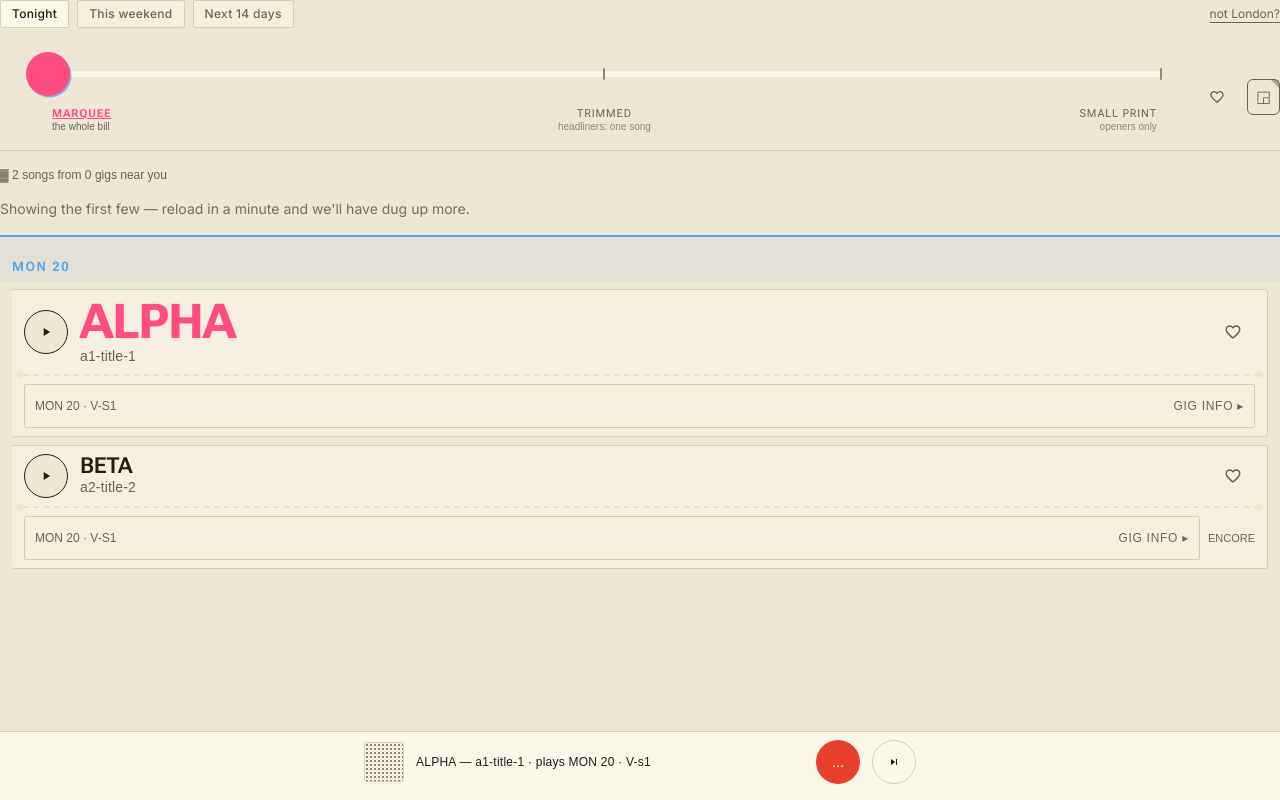
Test: Lineup Poster trigger + peel (Task 4.7) › holding ≥500ms opens the poster
Step 1. Press the mouse on the button named "make a poster" → [1263, 97], box [1247, 79, 1279, 115]
Wait 500 ms
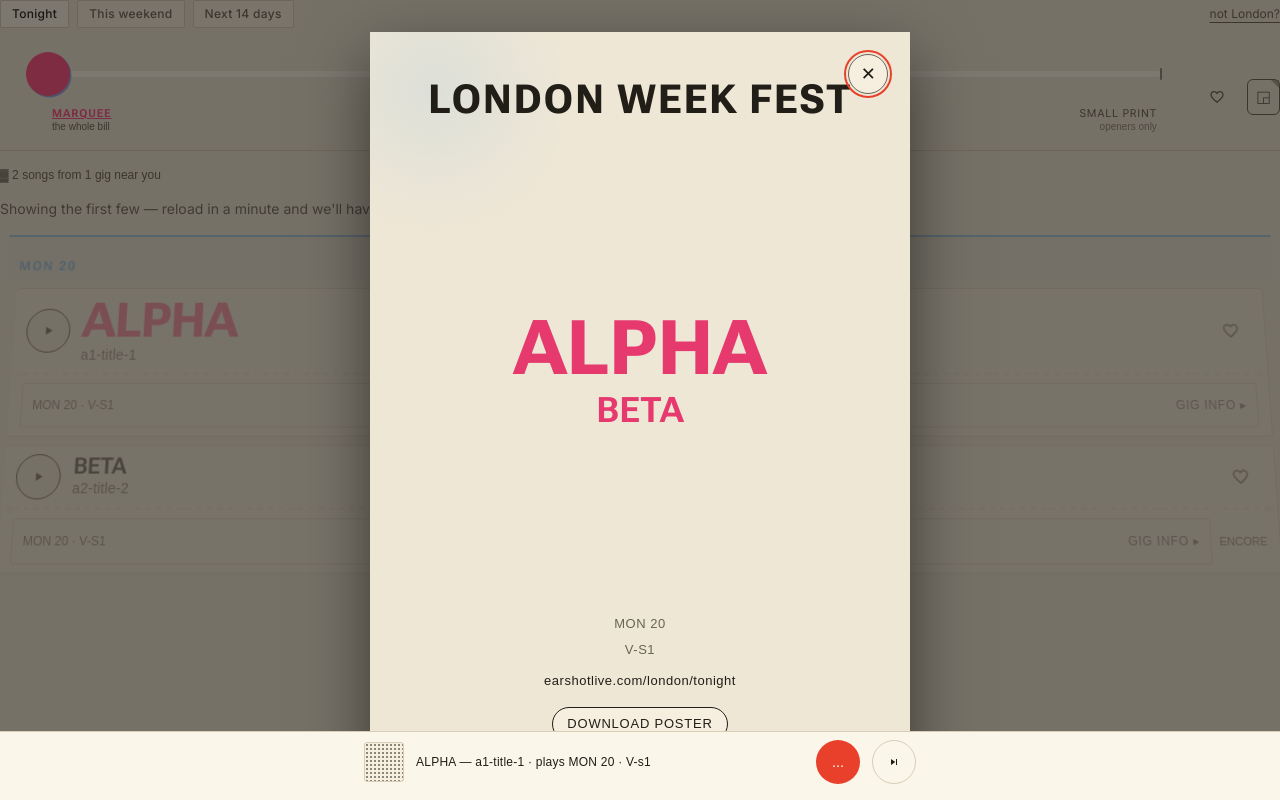
Expected: the dialog "LONDON WEEK FEST" is shown, [370, 32, 910, 768]
